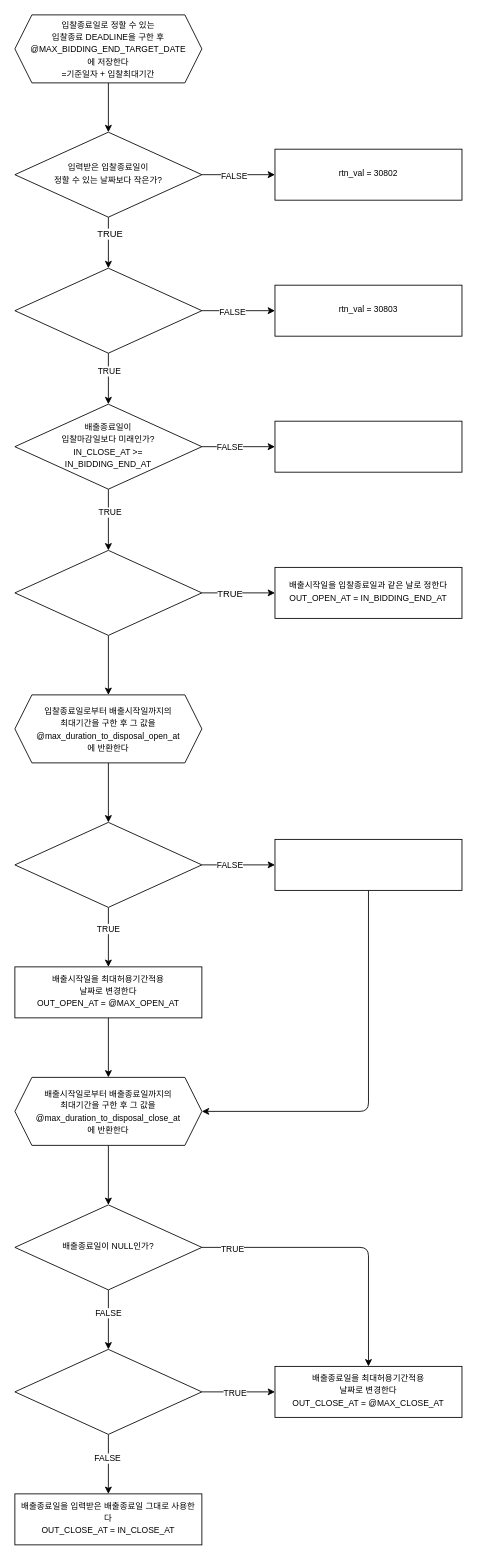
The diagram is 477 pixels wide and 1560 high, and some of its shapes have lost their labels. Each missing label, with the box of its shape:
rtn_val = 30801: (274, 420, 462, 472)
배출시작일을 입력받은 배출시작일 그대로 사용한다 OUT_OPEN_AT = IN_OPEN_AT: (274, 839, 462, 890)
배출종료일이 존재하는가? IN_CLOSE_AT IS NOT NULL: (14, 267, 202, 353)
입찰종료일이 배출시작일보다 미래인가? IN_OPEN_AT < IN_BIDDING_END_AT: (14, 550, 202, 635)
최대로 늦출수 있는 배출시작일이 계산된 최대허용치를 초과하는가?: (14, 822, 202, 907)
최대로 늦출수 있는 배출종료일이 계산된 최대허용치를 초과하는가?: (14, 1349, 202, 1434)
